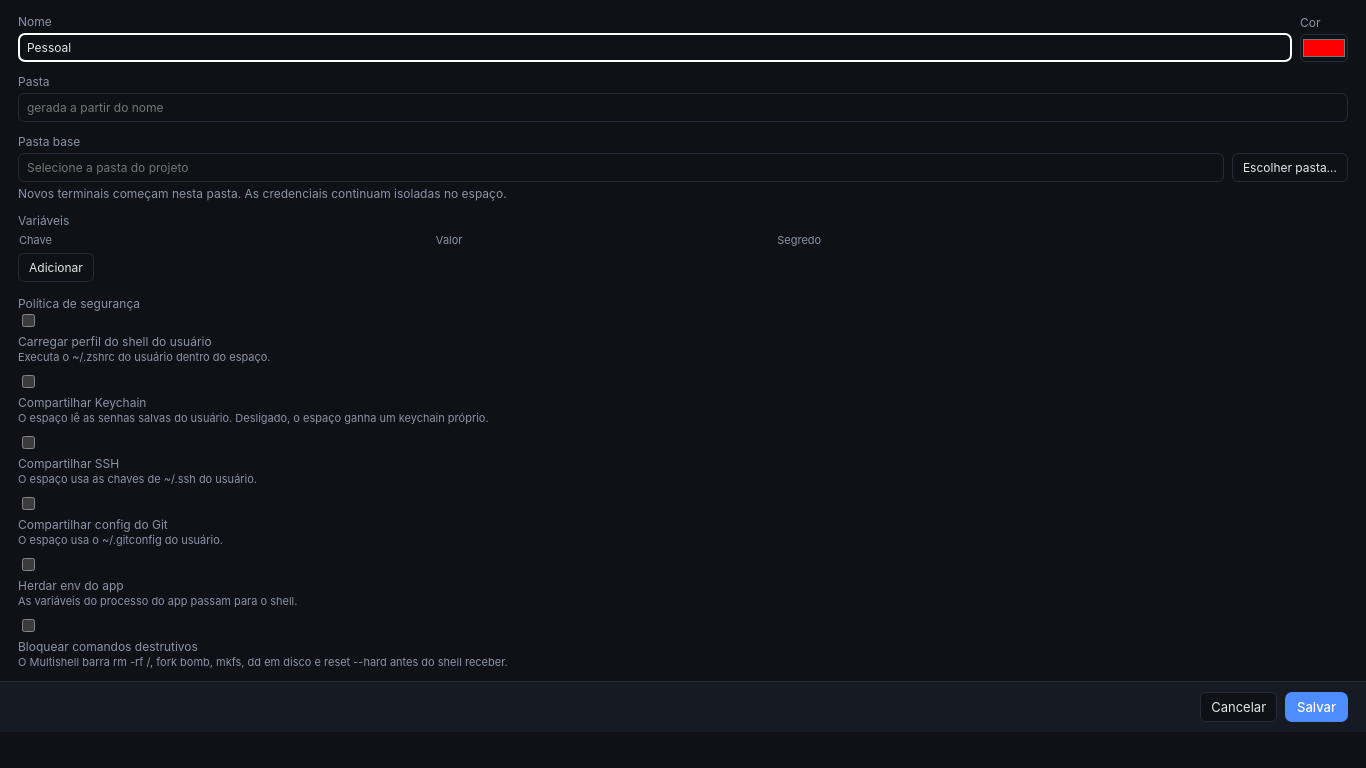
Test case: space base folder picker › shows a validation failure instead of silently ignoring it
Click the button "Salvar": (1316, 707) [1285,692,1348,722]
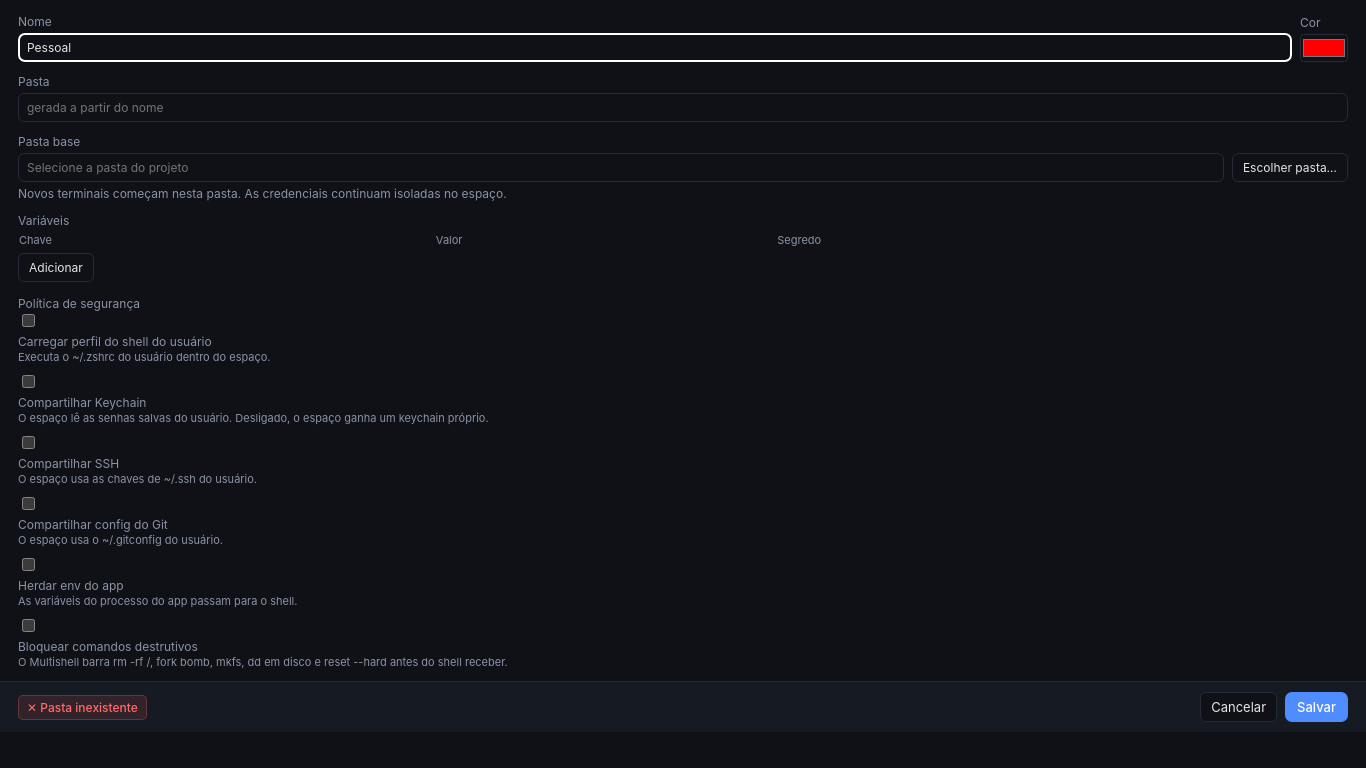
Result: the message shows "Pasta inexistente" at [40,700,138,714]
